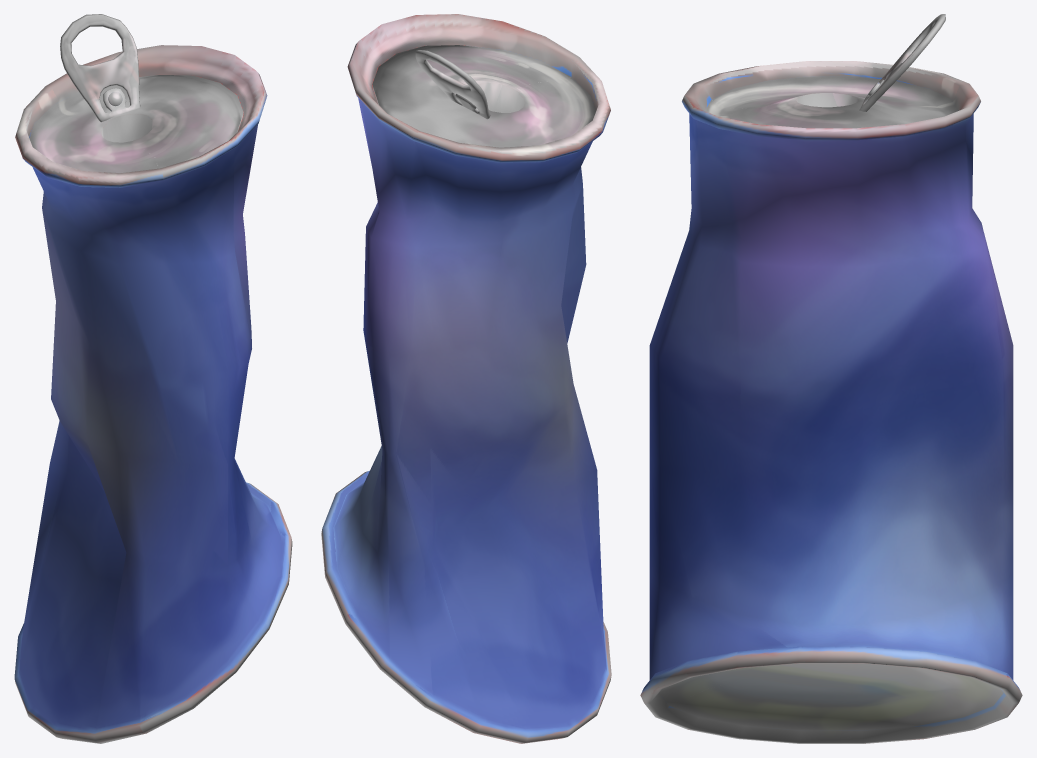
Rendered from Can_Blue.fbx.
3 views of the same model, side by side, from view 1: azimuth 30°, elevation 25°; view 2: azimuth 150°, elevation 25°; view 3: azimuth 270°, elevation 25° (orthographic). The views are drawn at different scales.
Visible parts, largest first — view 1: Cylinder; view 2: Cylinder; view 3: Cylinder.
Boxes of the visible parts, left/top/right/bottom form: Cylinder: left=14, top=14, right=292, bottom=743; Cylinder: left=321, top=14, right=611, bottom=743; Cylinder: left=640, top=14, right=1022, bottom=743.
Bounding box in the file's own units: 5.49 × 14.86 × 6.63.
2 materials, 2 textured.
